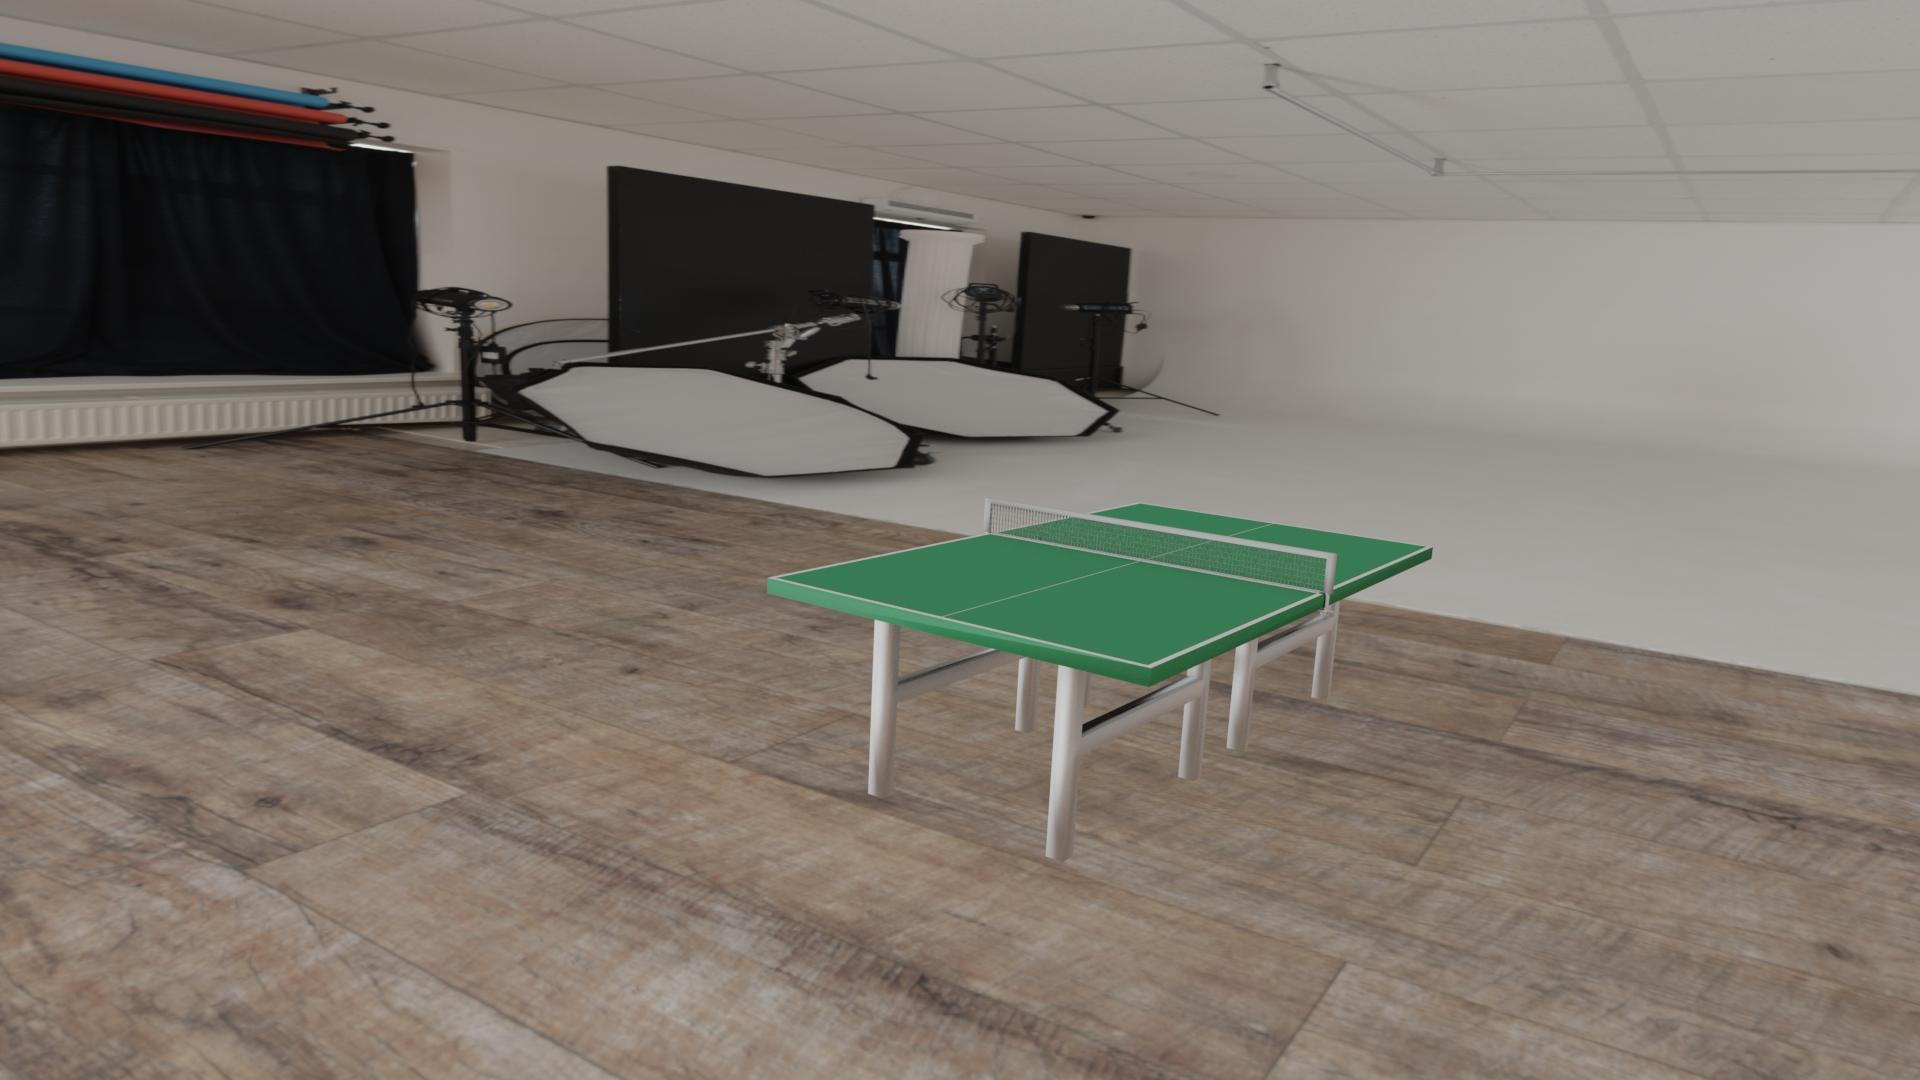table: (775, 504, 1427, 665)
